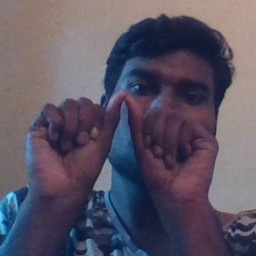A: (42, 88, 196, 198)
